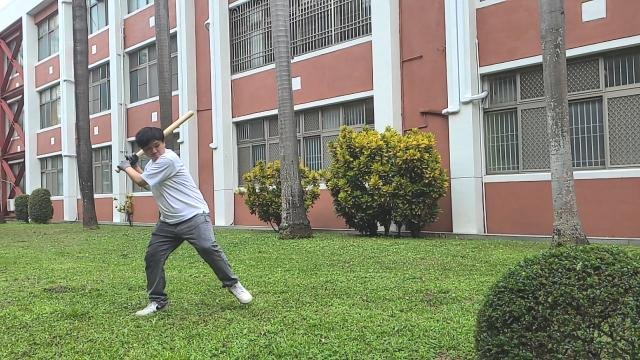bat: (135, 112, 195, 158)
